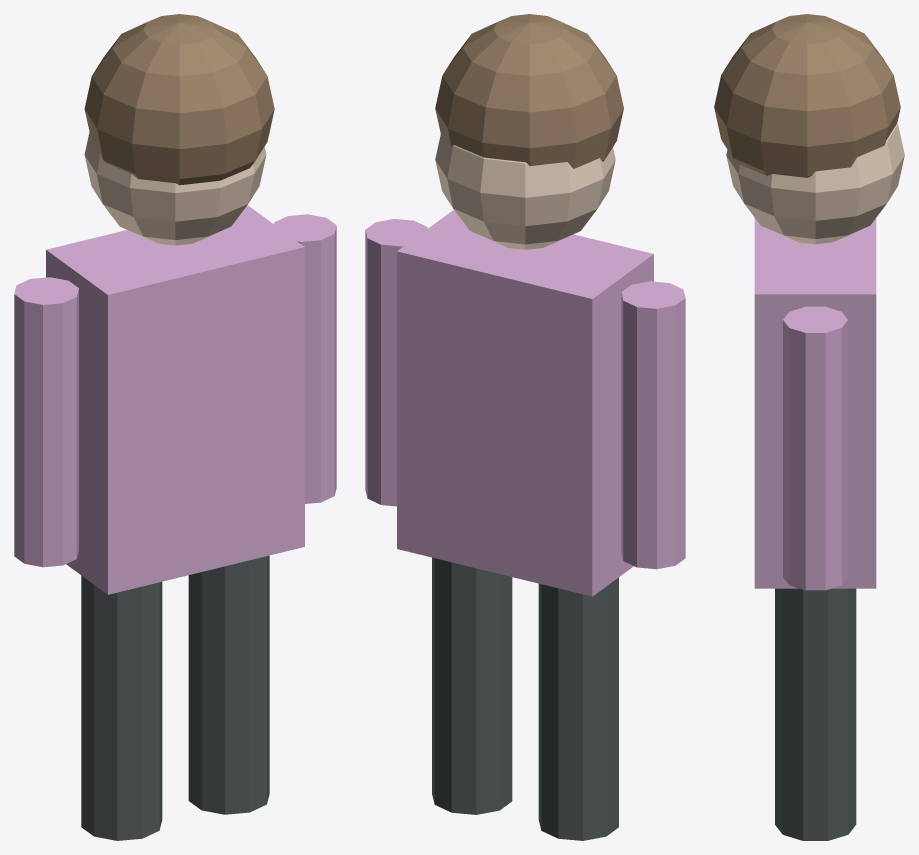
File: customer_3.glb
The picture shows the model from 3 angles, left to right: view 1: azimuth 30°, elevation 25°; view 2: azimuth 150°, elevation 25°; view 3: azimuth 270°, elevation 25°; orthographic projection.
Parts seen in each view (by area): view 1: torso.004, hair.003, leg_-0.004, leg_0.004, arm_-0.004, arm_0.004, head.004; view 2: torso.004, hair.003, leg_-0.004, leg_0.004, arm_-0.004, head.004, arm_0.004; view 3: torso.004, hair.003, leg_0.004, arm_0.004, head.004.
Part boxes in pixels (x1,y1,x2,y2): torso.004: (46,205,304,594); hair.003: (84,14,274,185); leg_-0.004: (81,575,162,840); leg_0.004: (188,555,269,814); arm_-0.004: (14,277,78,567); arm_0.004: (274,214,336,503); head.004: (84,132,266,245); torso.004: (397,210,653,596); hair.003: (435,14,623,168); leg_-0.004: (538,577,618,840); leg_0.004: (432,557,512,814); arm_-0.004: (621,281,685,569); head.004: (435,131,615,249); arm_0.004: (365,219,427,506); torso.004: (754,218,876,588); hair.003: (714,14,900,177); leg_0.004: (775,588,856,840); arm_0.004: (783,306,847,590); head.004: (726,123,904,244).
Bounding box in the file's own units: 0.8722 × 2.11 × 0.47.
